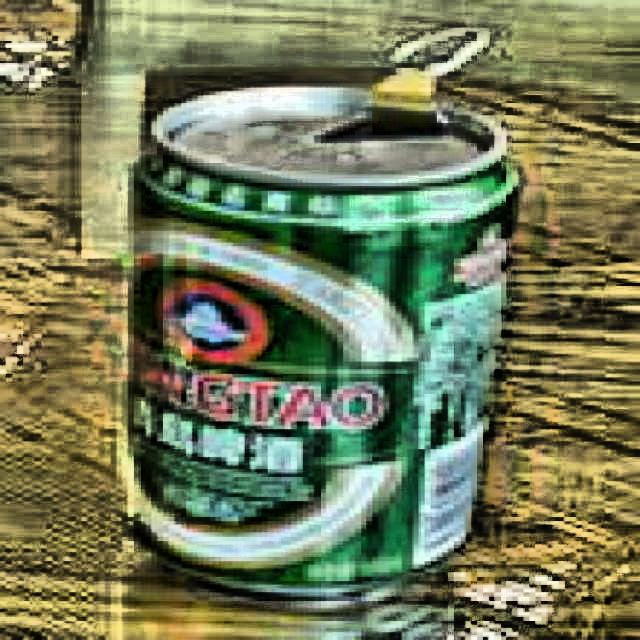can: (123, 23, 526, 596)
